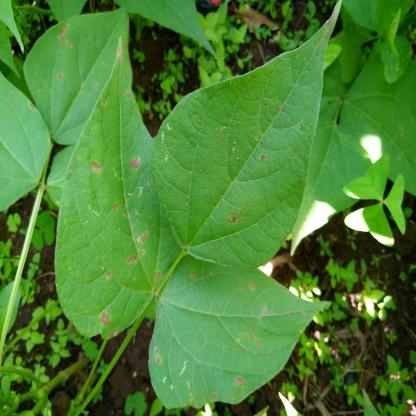Beans_Angular_LeafSpot: (198, 11, 334, 246), (66, 43, 170, 338), (147, 252, 319, 410), (43, 5, 128, 99)
